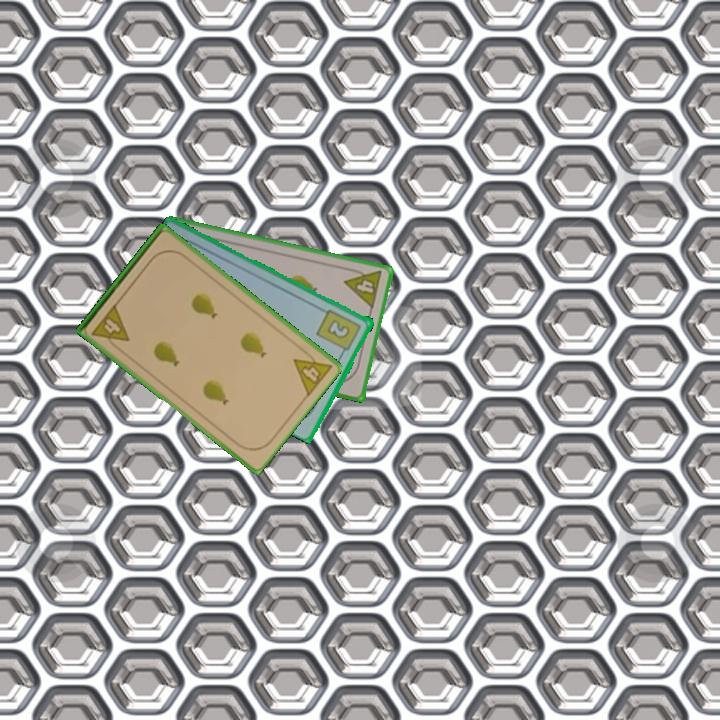2b: (313, 306, 364, 358)
4p: (290, 343, 335, 399), (88, 300, 132, 353), (341, 264, 385, 311)
